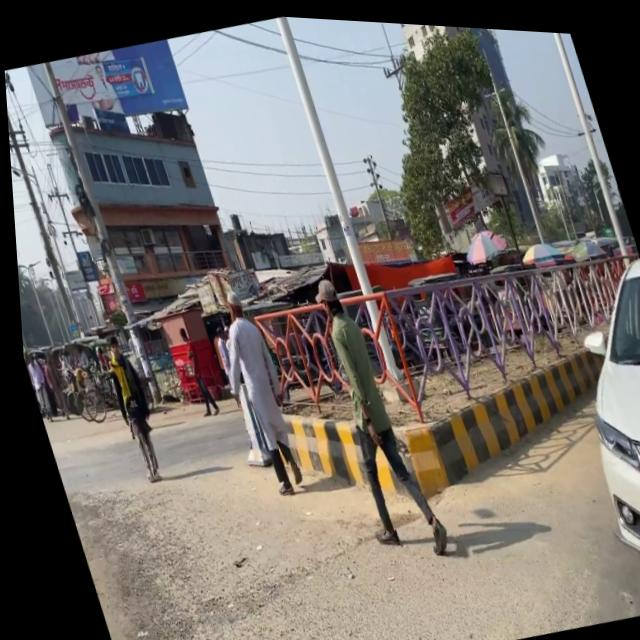Construction-barrier: (260, 325, 640, 536), (265, 385, 393, 511)
Garbage-bin: (291, 263, 446, 563), (196, 281, 307, 498), (91, 330, 165, 484), (170, 321, 214, 415)
Light-pole: (274, 13, 397, 380), (40, 58, 159, 407), (533, 25, 629, 259)
